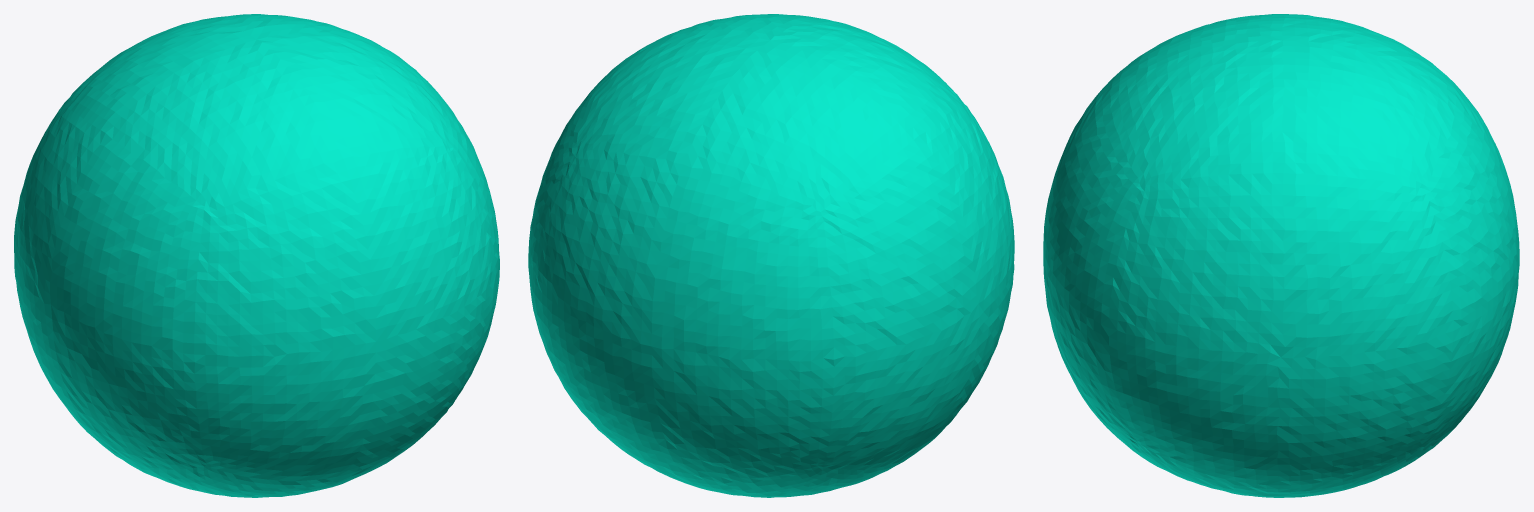
File: Sea45.fbx
The picture shows the model from 3 angles, left to right: view 1: azimuth 30°, elevation 25°; view 2: azimuth 150°, elevation 25°; view 3: azimuth 270°, elevation 25°; orthographic projection.
Parts seen in each view (by area): view 1: pCube1; view 2: pCube1; view 3: pCube1.
Boxes of the visible parts, x1,y1,x2,y2 form: pCube1: (14, 14, 499, 497); pCube1: (528, 14, 1014, 497); pCube1: (1043, 14, 1519, 497).
Size of the model in its own units: 40.46 by 40.49 by 40.45.
